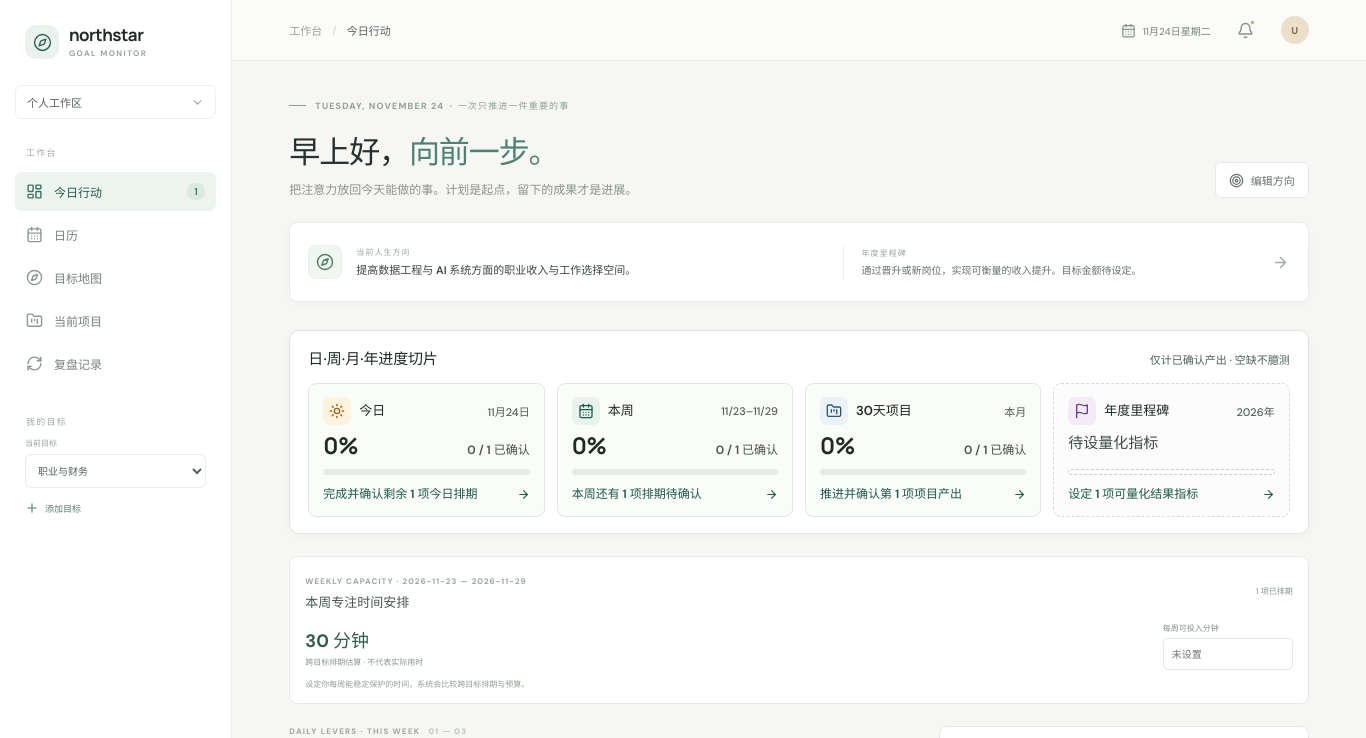
Goal Monitor first-run flows › keeps skipped scheduled actions in the agenda so they can be restored
The image size is (1366, 738).
Click the button "日历": (116, 234) [15,215,216,254]
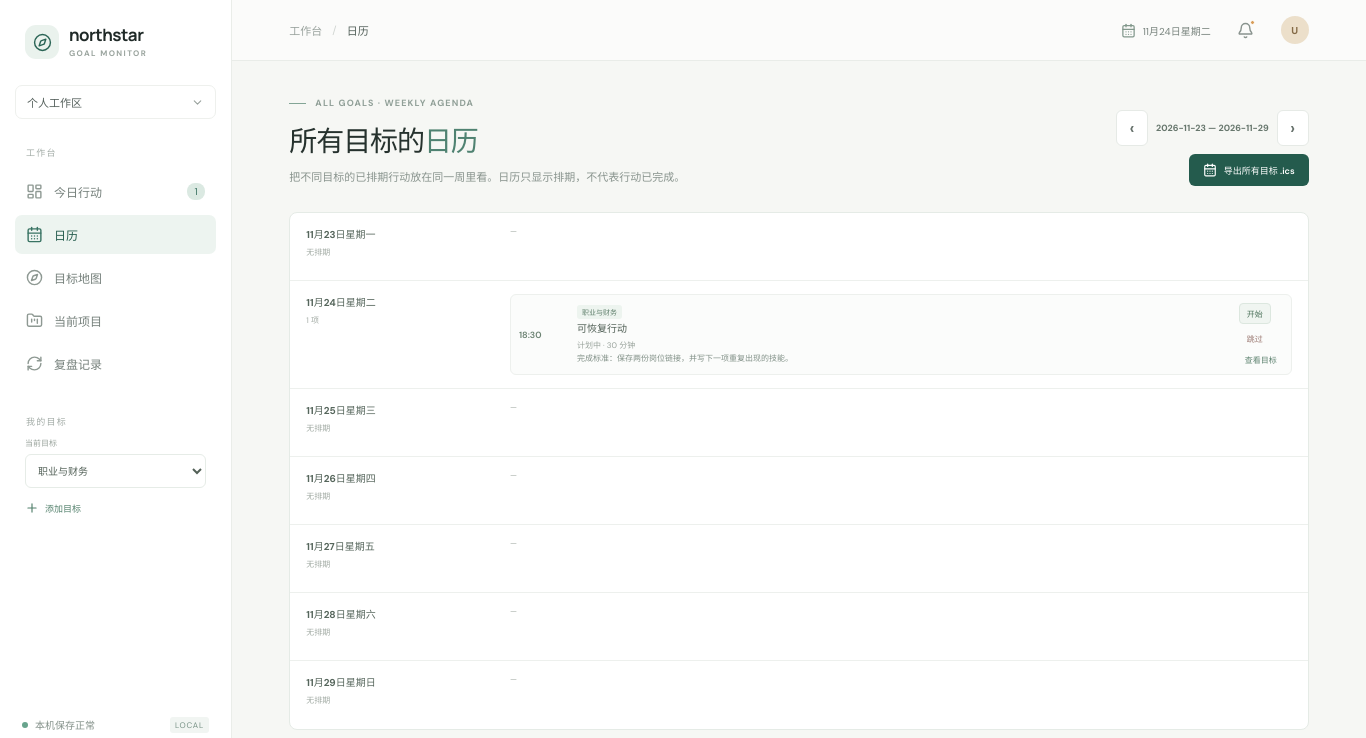
Click the button "跳过": (1255, 339) [1239,328,1271,350]
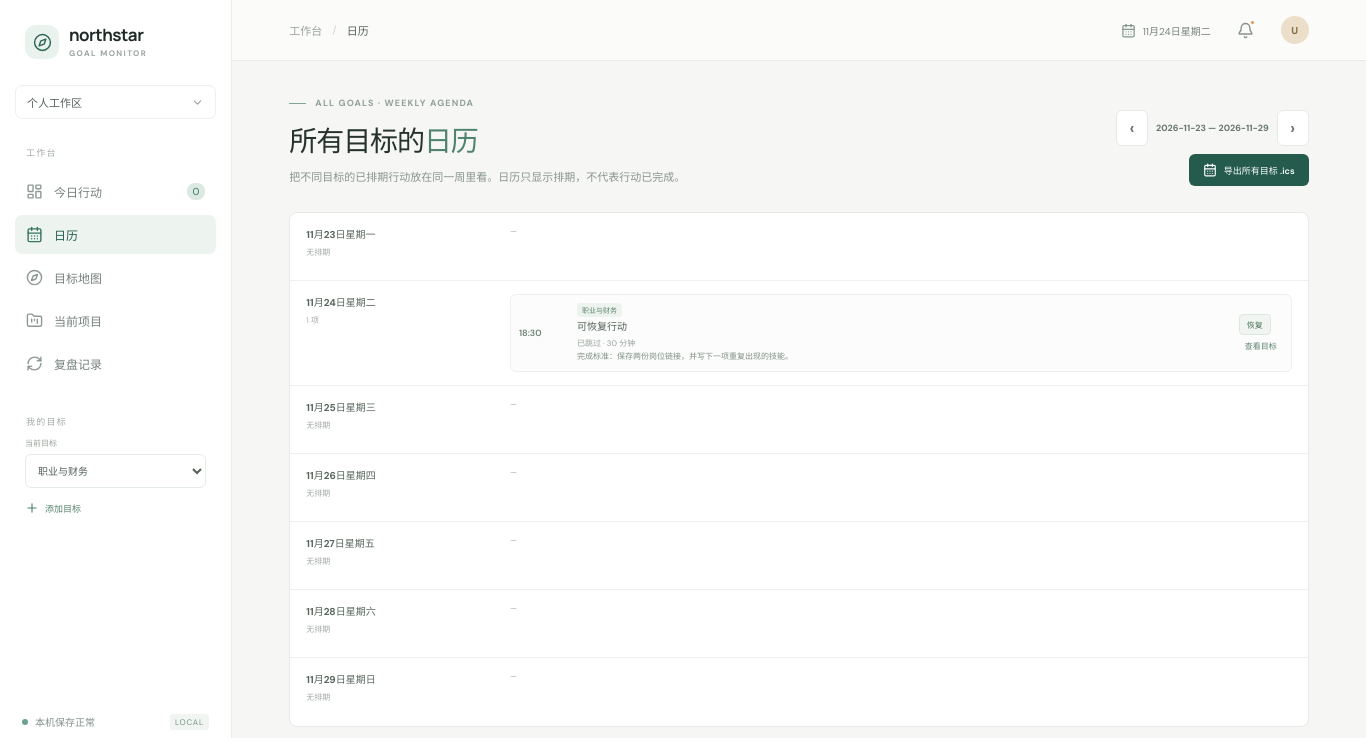
Result: the text "已跳过 · 30 分钟" is shown at [577,338,635,348]
Click the button "恢复": (1255, 325) [1239,314,1271,335]
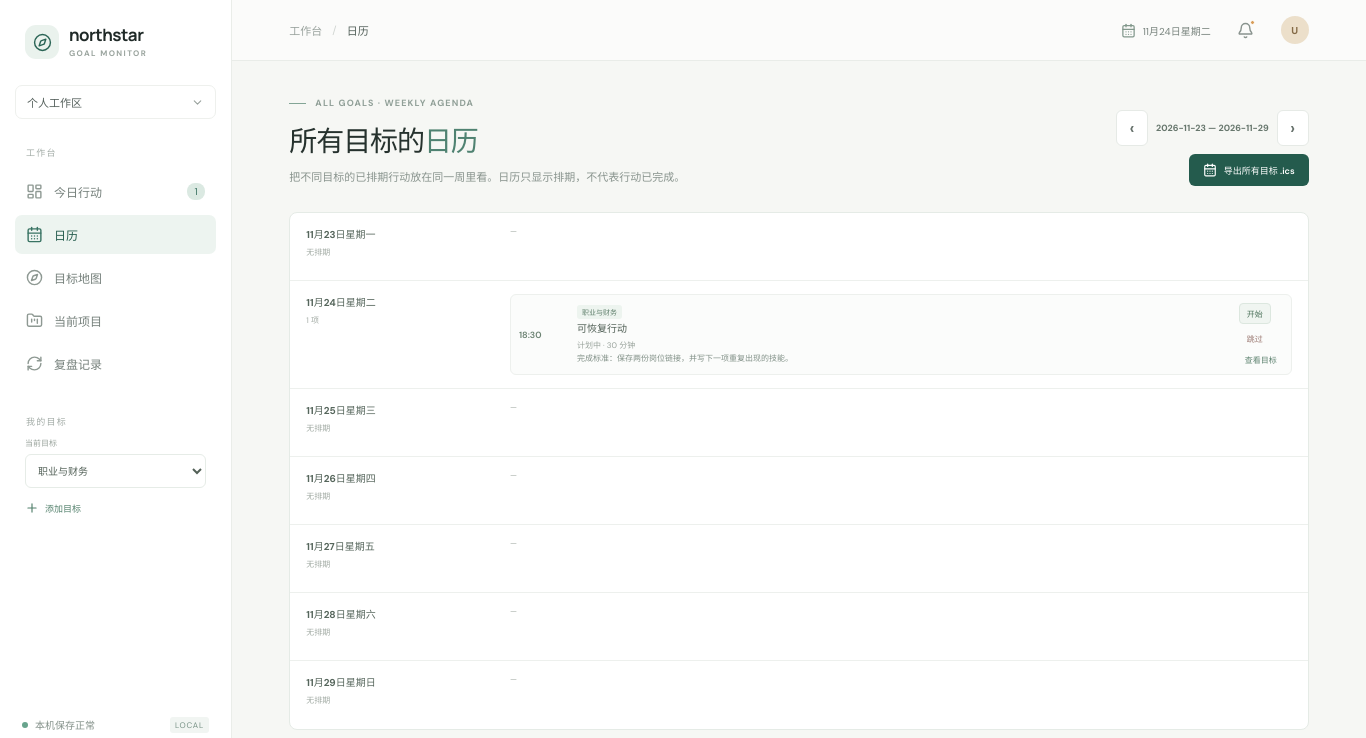
Result: the text "计划中 · 30 分钟" is shown at [577,340,635,350]
